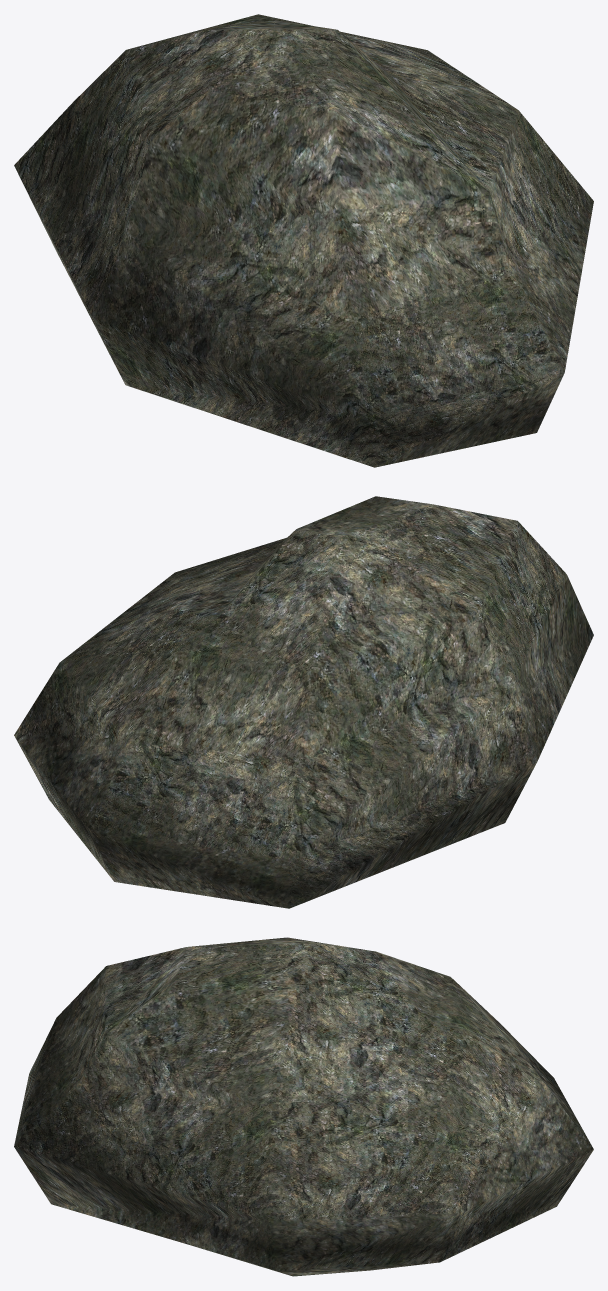
File: mtns_rock_grey_a12_l0.fbx
3 views of the same model, one above another, from view 1: azimuth 30°, elevation 25°; view 2: azimuth 150°, elevation 25°; view 3: azimuth 270°, elevation 25° (orthographic). The views are drawn at different scales.
Parts seen in each view (by area): view 1: mesh_node; view 2: mesh_node; view 3: mesh_node.
Part boxes in pixels (left/top/right/bottom): mesh_node: left=14, top=14, right=593, bottom=467; mesh_node: left=14, top=496, right=593, bottom=908; mesh_node: left=14, top=937, right=593, bottom=1276.
Size of the model in its own units: 1.66 by 1.15 by 2.22.
1 material, 1 textured.
